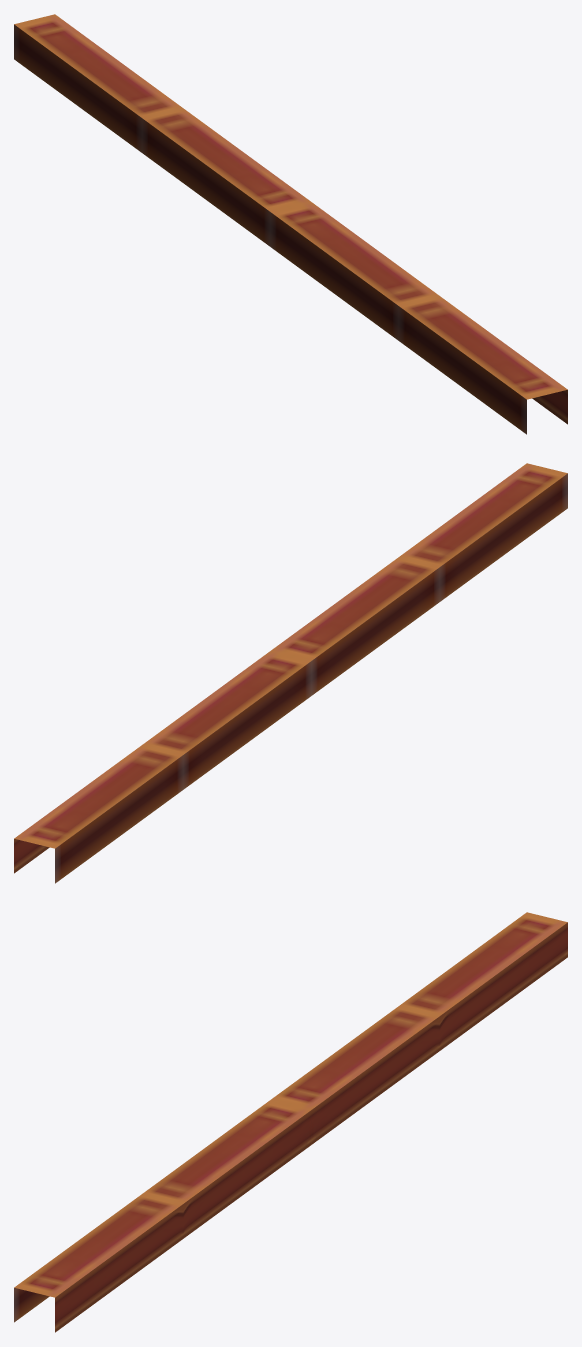
Rendered from FB_Xiaoshengxianzhuang_05.FBX.
3 renders of one model, top to bottom at view 1: azimuth 30°, elevation 25°; view 2: azimuth 150°, elevation 25°; view 3: azimuth 330°, elevation 25°, orthographic.
Parts seen in each view (by area): view 1: Object08; view 2: Object08; view 3: Object08.
Part boxes in pixels (box(x1,y1,x2,y2)): Object08: box(14, 14, 567, 434); Object08: box(14, 463, 567, 883); Object08: box(14, 912, 567, 1332).
Bounding box in the file's own units: 0.273 × 0.2225 × 5.9.
